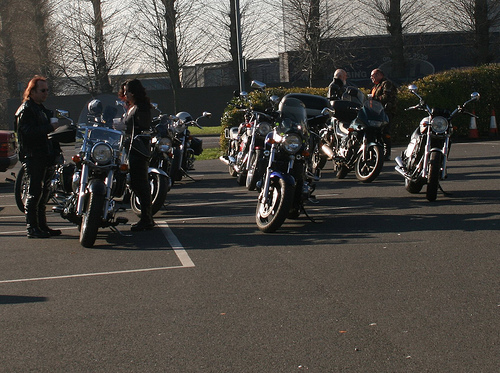helmet: (88, 100, 100, 112)
